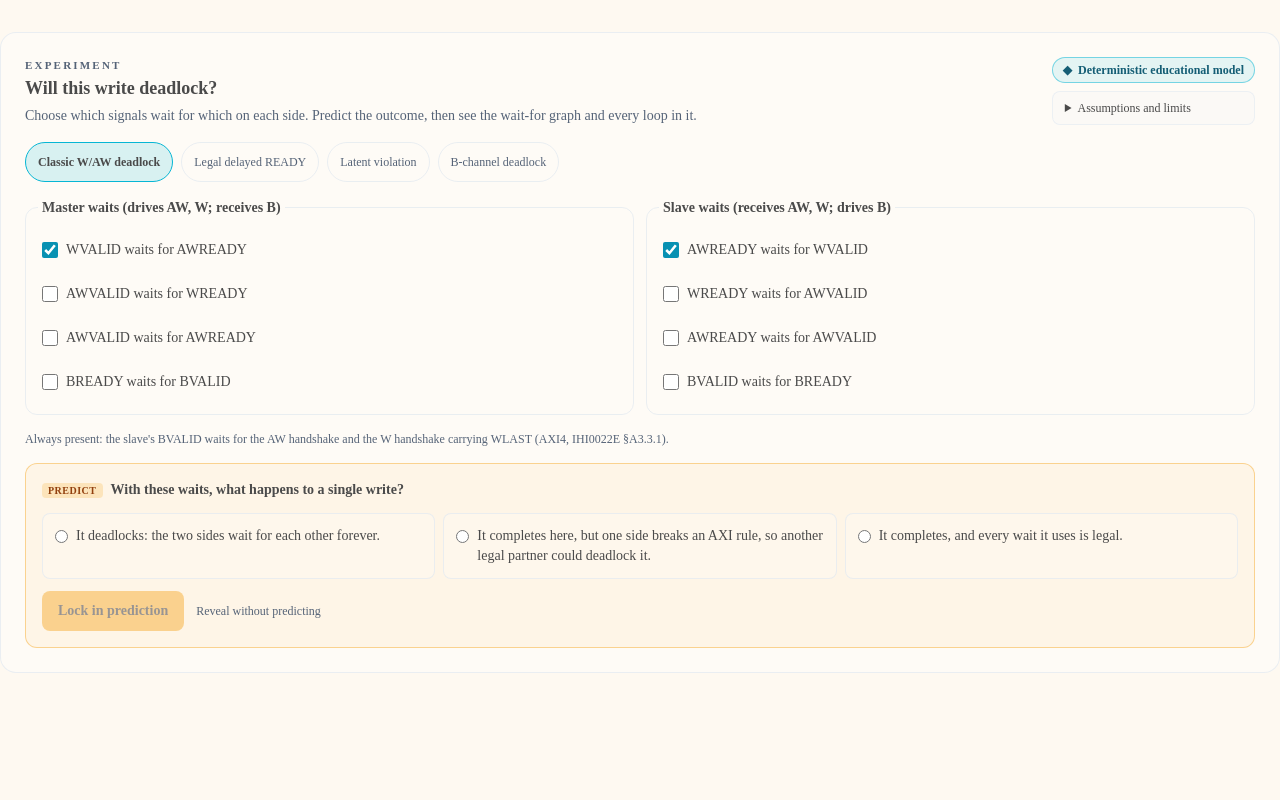
Test: AxiDeadlockSimulator › finds the B-channel loop: a slave holding BVALID for BREADY
The width and height of the screenshot is (1280, 800).
Click the button "B-channel deadlock": (498,162) top-left (438, 142), bottom-right (559, 182)
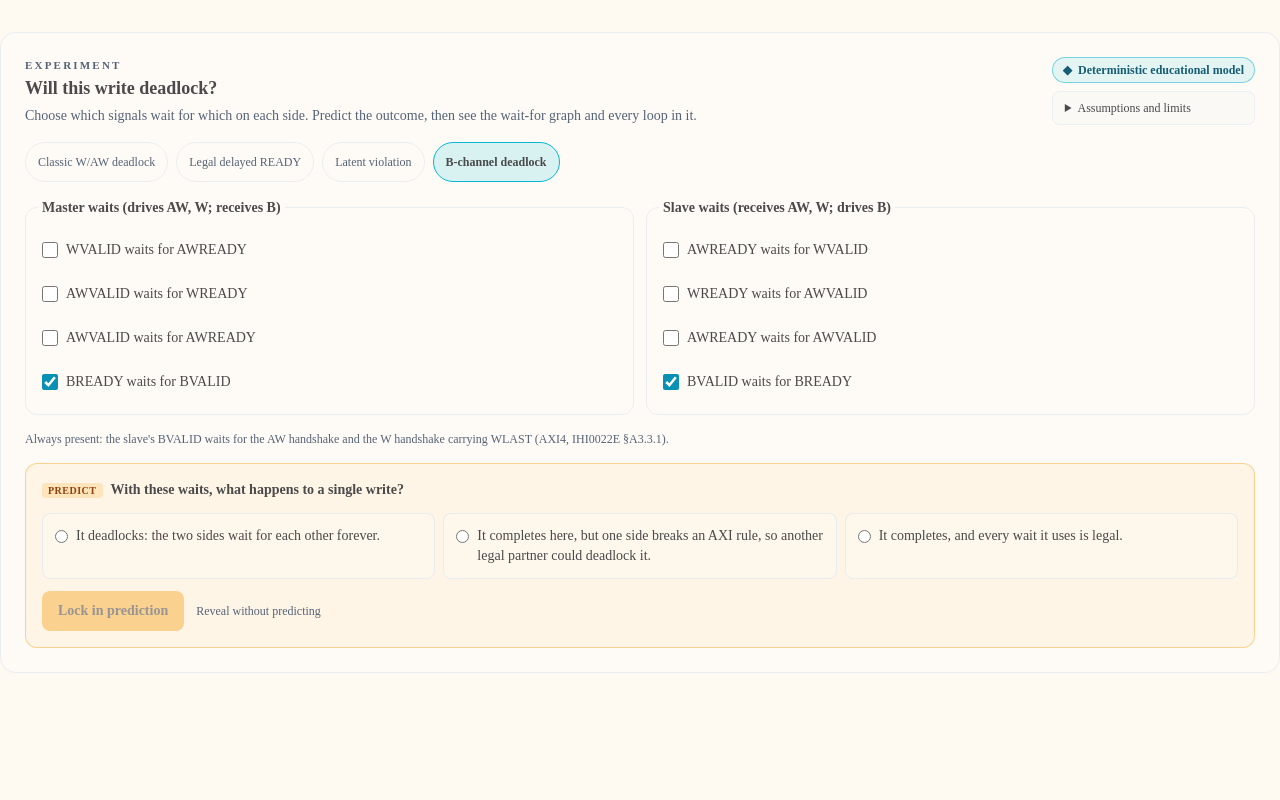
Click the button "Reveal without predicting": (258,610) top-left (196, 602), bottom-right (321, 618)
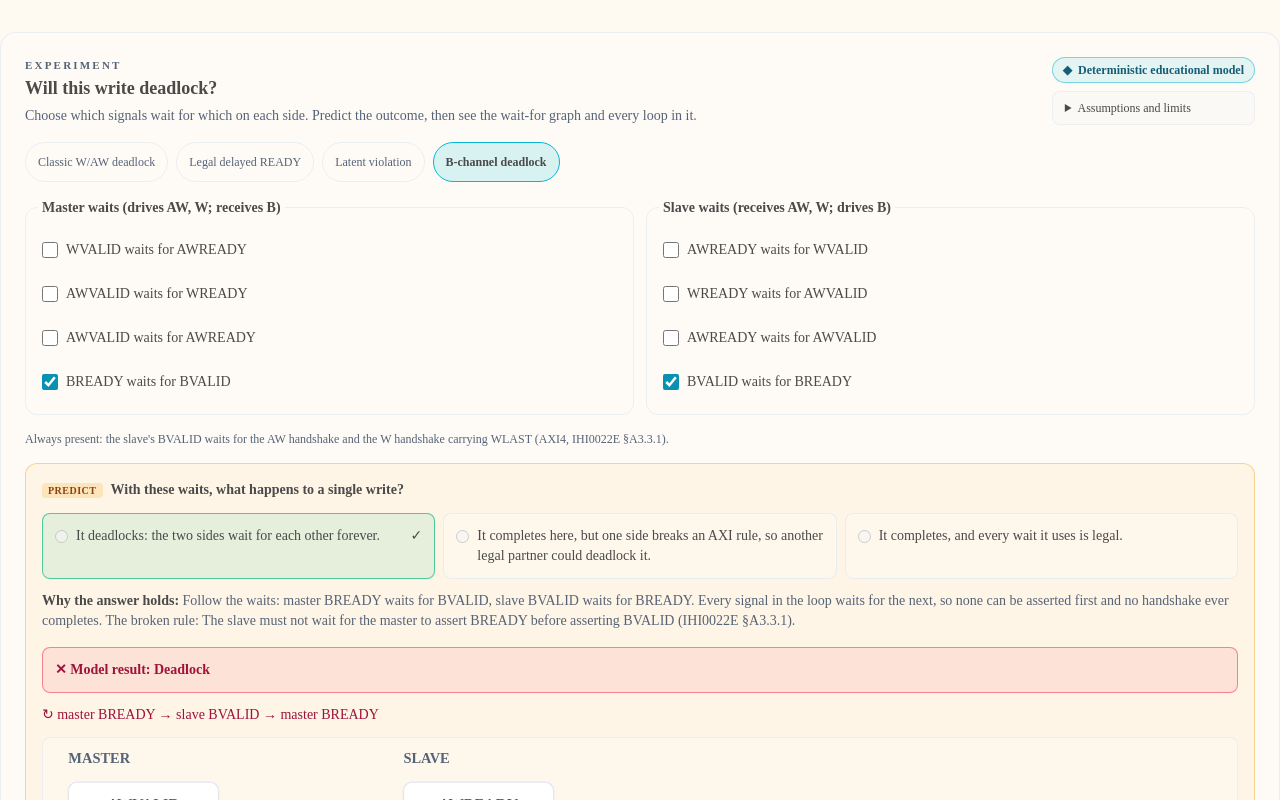
Check: the list item "↻ master BREADY → slave BVALID → master BREADY" is shown, box top-left (42, 706), bottom-right (379, 722)
